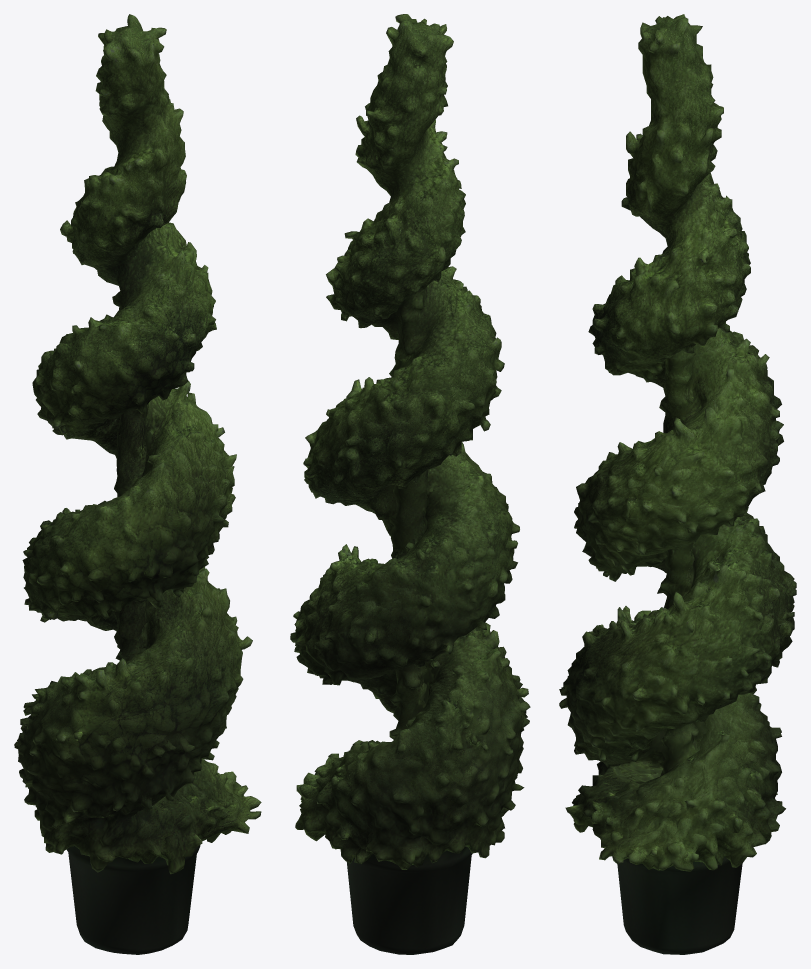
Rendered from ROSEMARY_SPIRAL_TRee_5FeetTall_0222184741_texture.glb.
3 renders of one model, left to right at view 1: azimuth 30°, elevation 25°; view 2: azimuth 150°, elevation 25°; view 3: azimuth 270°, elevation 25°, orthographic.
Visible parts, largest first — view 1: Mesh_0; view 2: Mesh_0; view 3: Mesh_0.
Part boxes in pixels (<box>): Mesh_0: <box>14,14,261,954</box>; Mesh_0: <box>290,14,530,954</box>; Mesh_0: <box>559,14,796,954</box>.
Size of the model in its own units: 0.3669 by 1.52 by 0.3575.
1 material, 1 textured.
